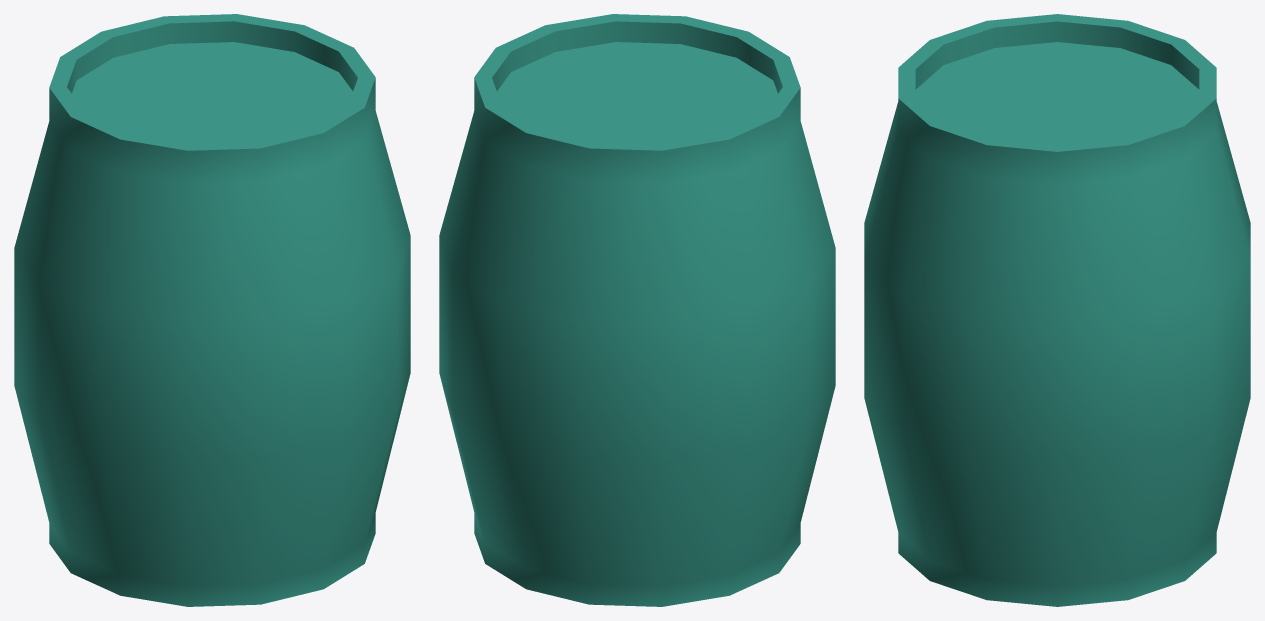
Rendered from barrel.fbx.
3 renders of one model, left to right at view 1: azimuth 30°, elevation 25°; view 2: azimuth 150°, elevation 25°; view 3: azimuth 270°, elevation 25°, orthographic.
Parts seen in each view (by area): view 1: _Barrel; view 2: _Barrel; view 3: _Barrel.
Part boxes in pixels (<box>): _Barrel: <box>14,14,410,606</box>; _Barrel: <box>439,14,835,606</box>; _Barrel: <box>864,14,1250,606</box>.
Bounding box in the file's own units: 5.98 × 7.57 × 5.83.
